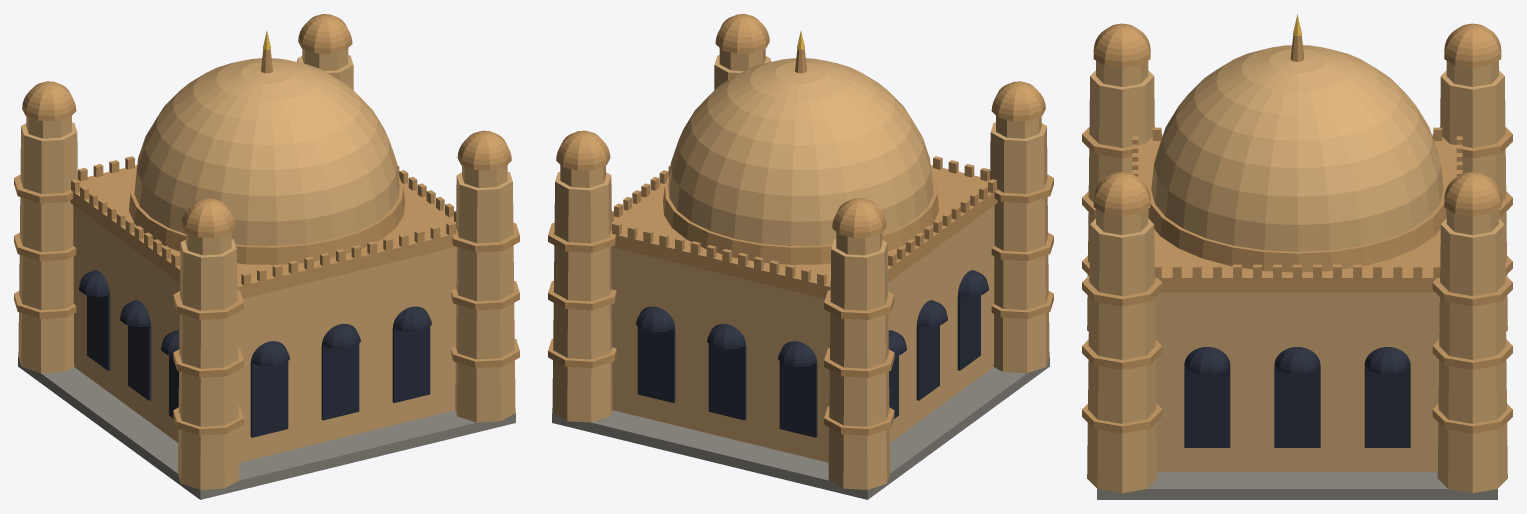
File: gol-gumbaz.glb
3 views of the same model, side by side, from view 1: azimuth 30°, elevation 25°; view 2: azimuth 150°, elevation 25°; view 3: azimuth 270°, elevation 25° (orthographic). The views are drawn at different scales.
Parts seen in each view (by area): view 1: gol-gumbaz; view 2: gol-gumbaz; view 3: gol-gumbaz.
Part boxes in pixels (box(x1,y1,x2,y2)): gol-gumbaz: box(14, 14, 519, 499); gol-gumbaz: box(548, 14, 1053, 499); gol-gumbaz: box(1082, 14, 1512, 499).
Bounding box in the file's own units: 3.89 × 4 × 3.89.
